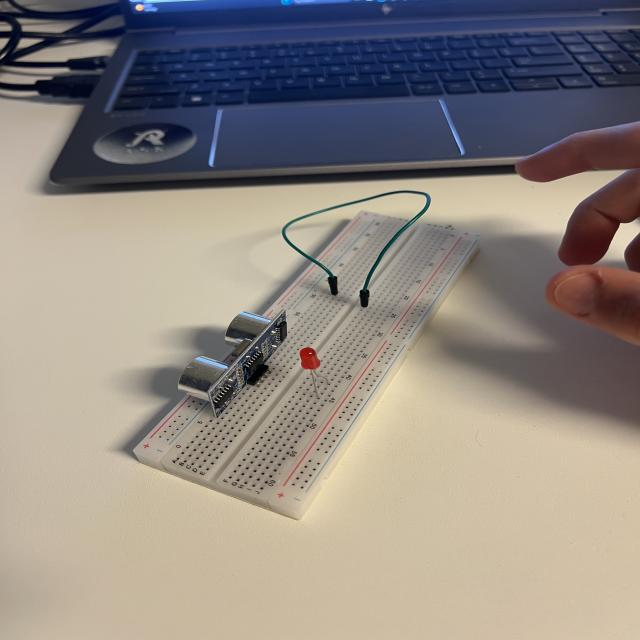BreadBoard: (138, 210, 485, 510)
REDLed: (293, 339, 340, 391)
UltrasoneSensor: (159, 312, 299, 415)
